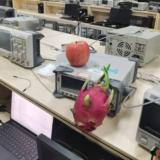apple: (66, 41, 89, 67)
pitaya: (75, 68, 109, 132)
